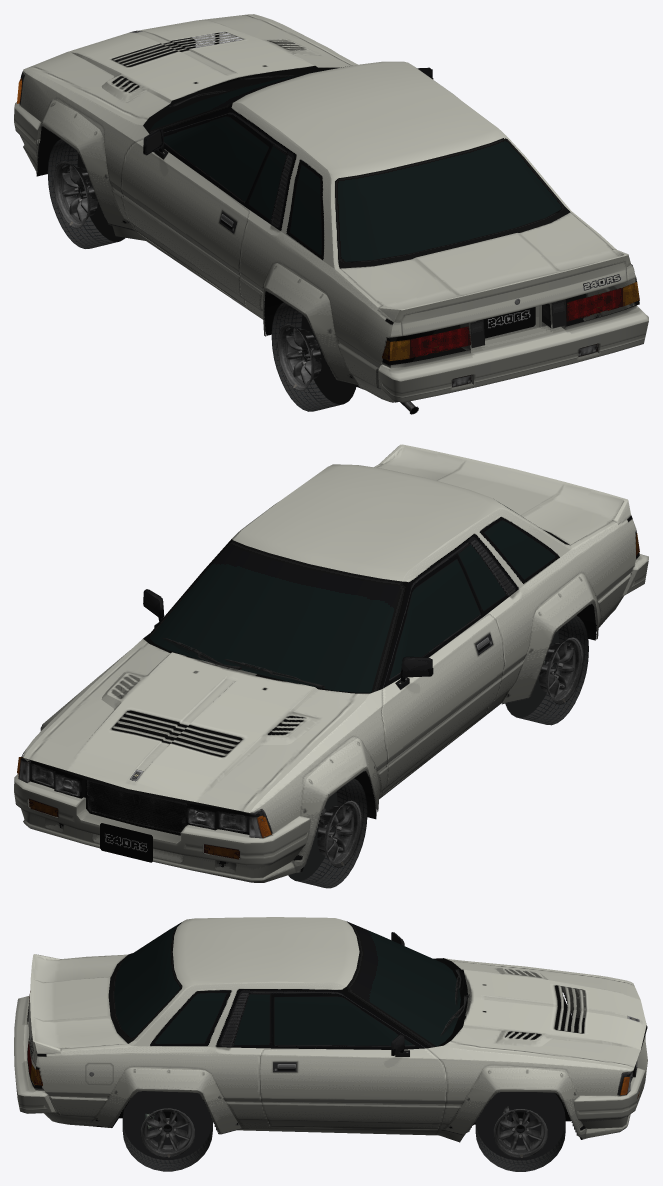
File: GT4_NISS0064.glb
3 views of the same model, one above another, from view 1: azimuth 30°, elevation 25°; view 2: azimuth 150°, elevation 25°; view 3: azimuth 270°, elevation 25° (orthographic). The views are drawn at different scales.
Parts seen in each view (by area): view 1: body, tire_rear_left, tire_front_left, wheel_rear_left, wheel_front_left; view 2: body, tire_front_left, tire_rear_left, wheel_front_left, wheel_rear_left; view 3: body, tire_rear_right, tire_front_right, wheel_rear_right, wheel_front_right.
Part boxes in pixels (left/top/right/bottom): body: left=14, top=14, right=648, bottom=414; tire_rear_left: left=271, top=302, right=356, bottom=411; tire_front_left: left=47, top=139, right=125, bottom=248; wheel_rear_left: left=277, top=324, right=321, bottom=391; wheel_front_left: left=53, top=161, right=97, bottom=228; body: left=14, top=444, right=648, bottom=882; tire_front_left: left=288, top=778, right=367, bottom=888; tire_rear_left: left=505, top=615, right=588, bottom=725; wheel_front_left: left=317, top=800, right=361, bottom=867; wheel_rear_left: left=539, top=637, right=583, bottom=704; body: left=14, top=917, right=647, bottom=1142; tire_rear_right: left=122, top=1091, right=212, bottom=1171; tire_front_right: left=475, top=1092, right=565, bottom=1171; wheel_rear_right: left=140, top=1108, right=194, bottom=1157; wheel_front_right: left=493, top=1109, right=547, bottom=1157.
Bounding box in the file's own units: 1.8 × 1.31 × 4.32.
46 materials, 46 textured.
